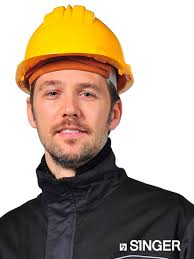Person_wearing_helmet: (7, 0, 137, 109)
